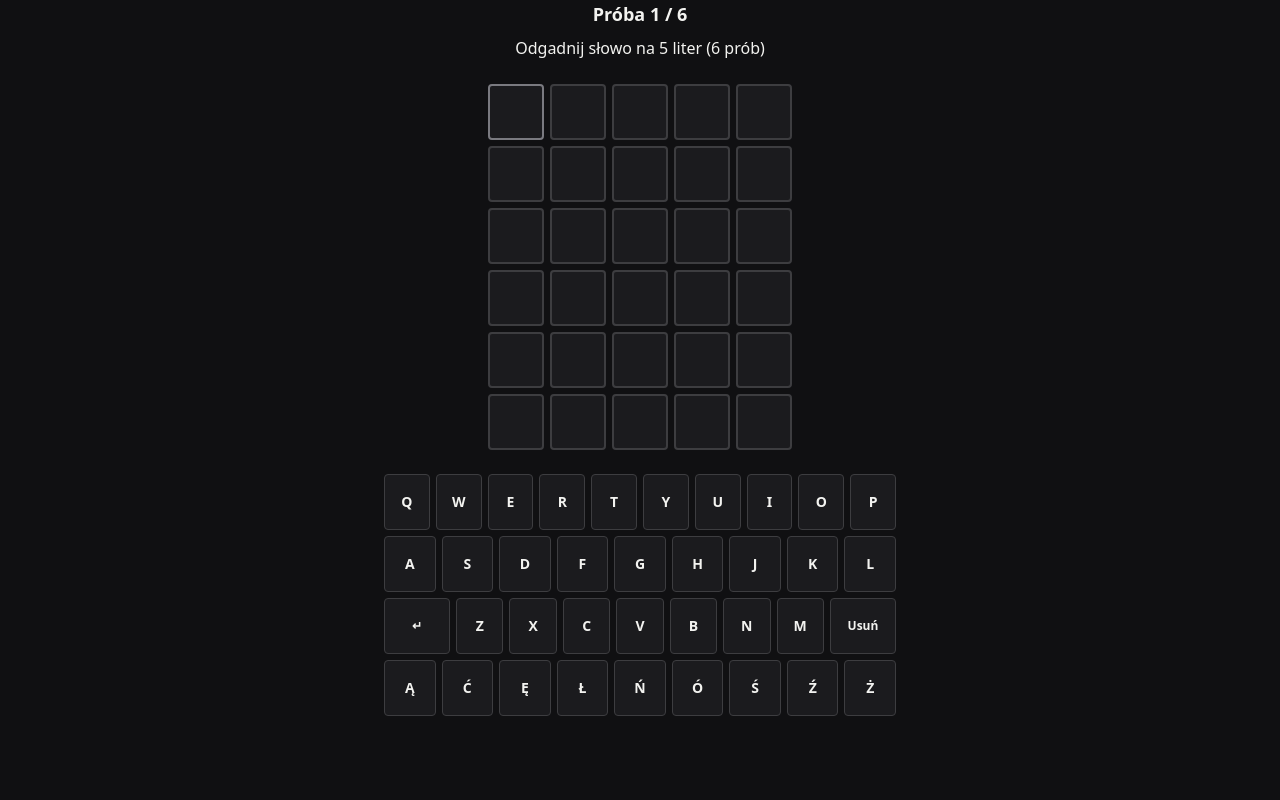
InfiniteGamePlay › shows result modal and disables keyboard on finish
Click the button "M". click: (800, 626)
box: 776,598 -> 824,654
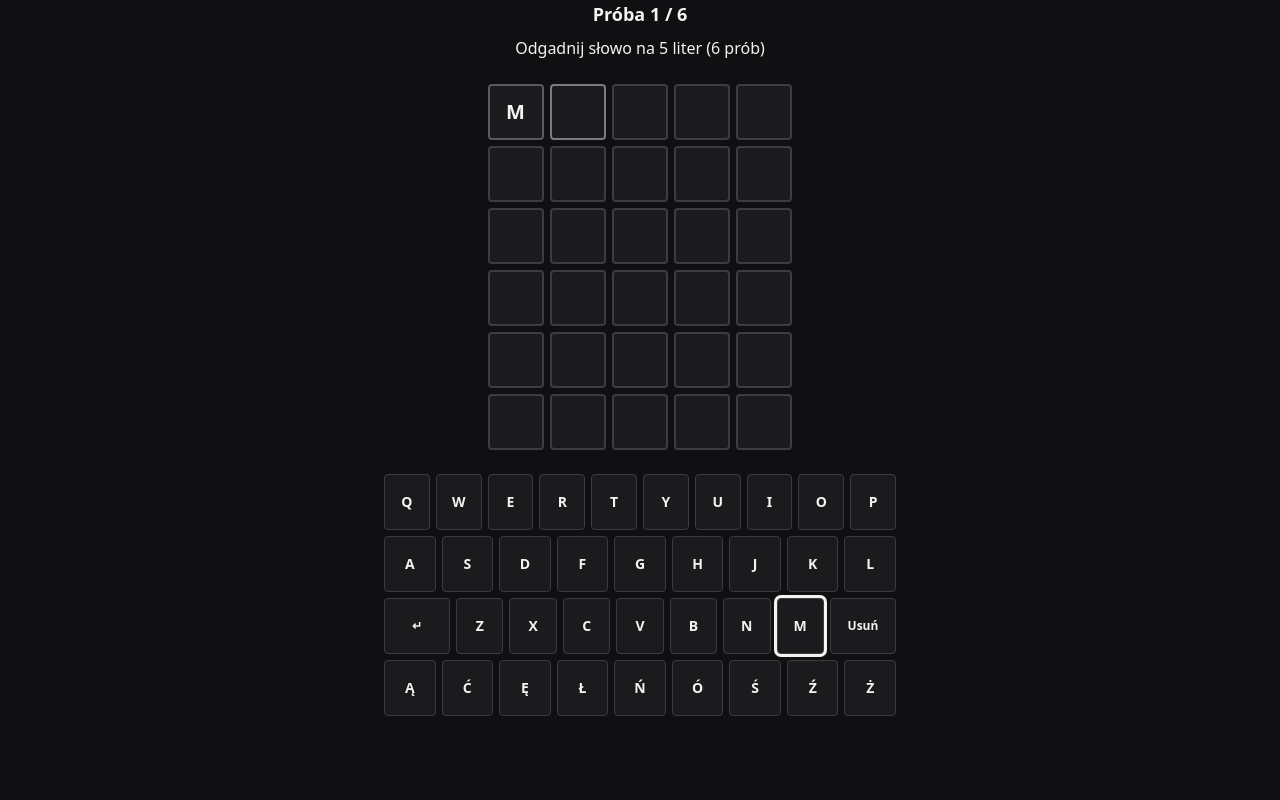
Click the button named "Wpisz literę A". click: (410, 564)
box: 384,536 -> 436,592
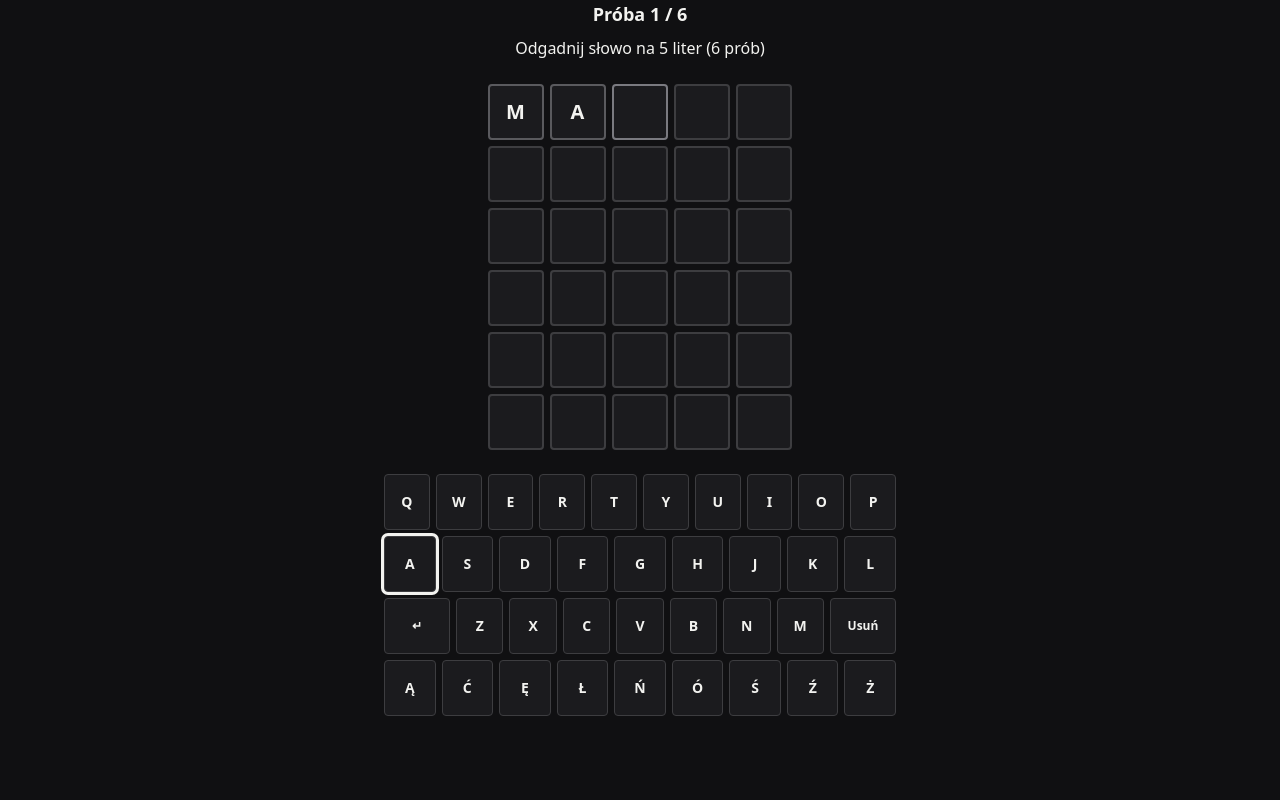
Click the button "K". click: (813, 564)
box: 787,536 -> 838,592
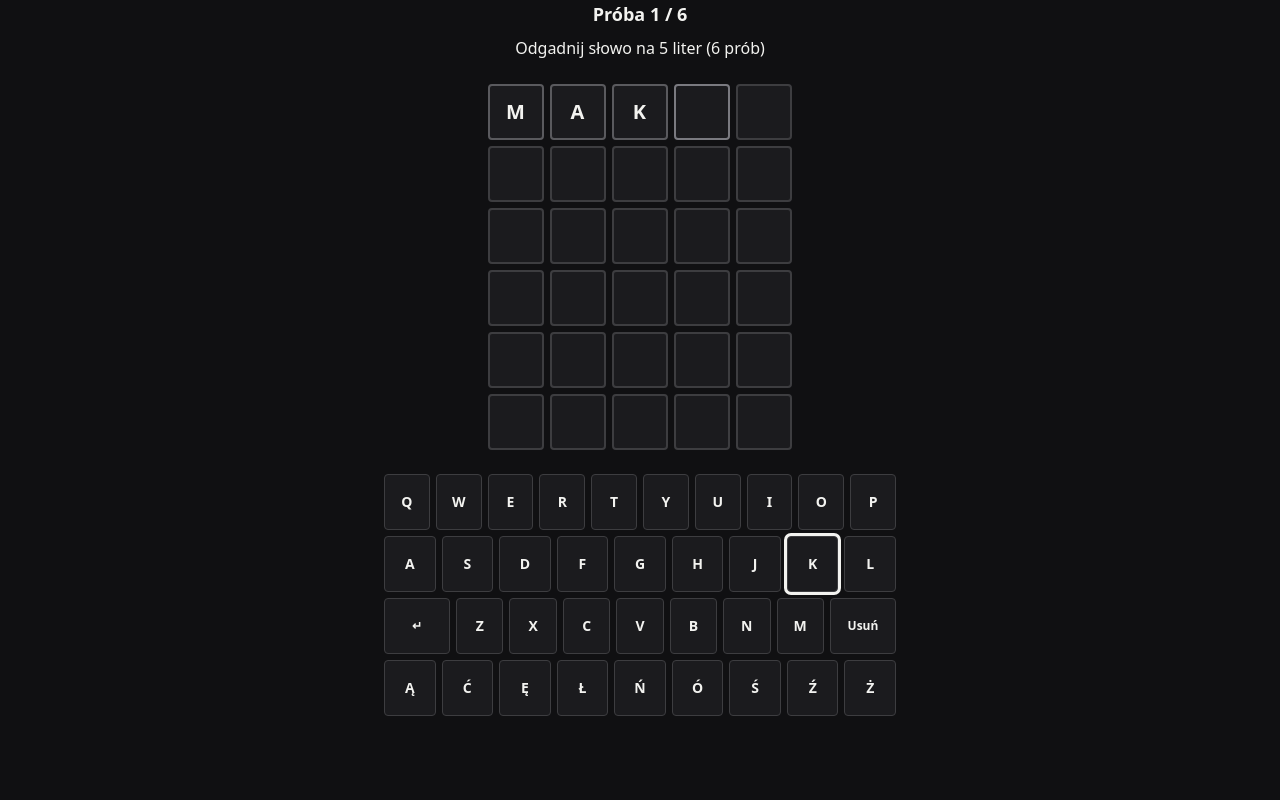
Click the button named "Wpisz literę S". click: (467, 564)
box: 442,536 -> 493,592
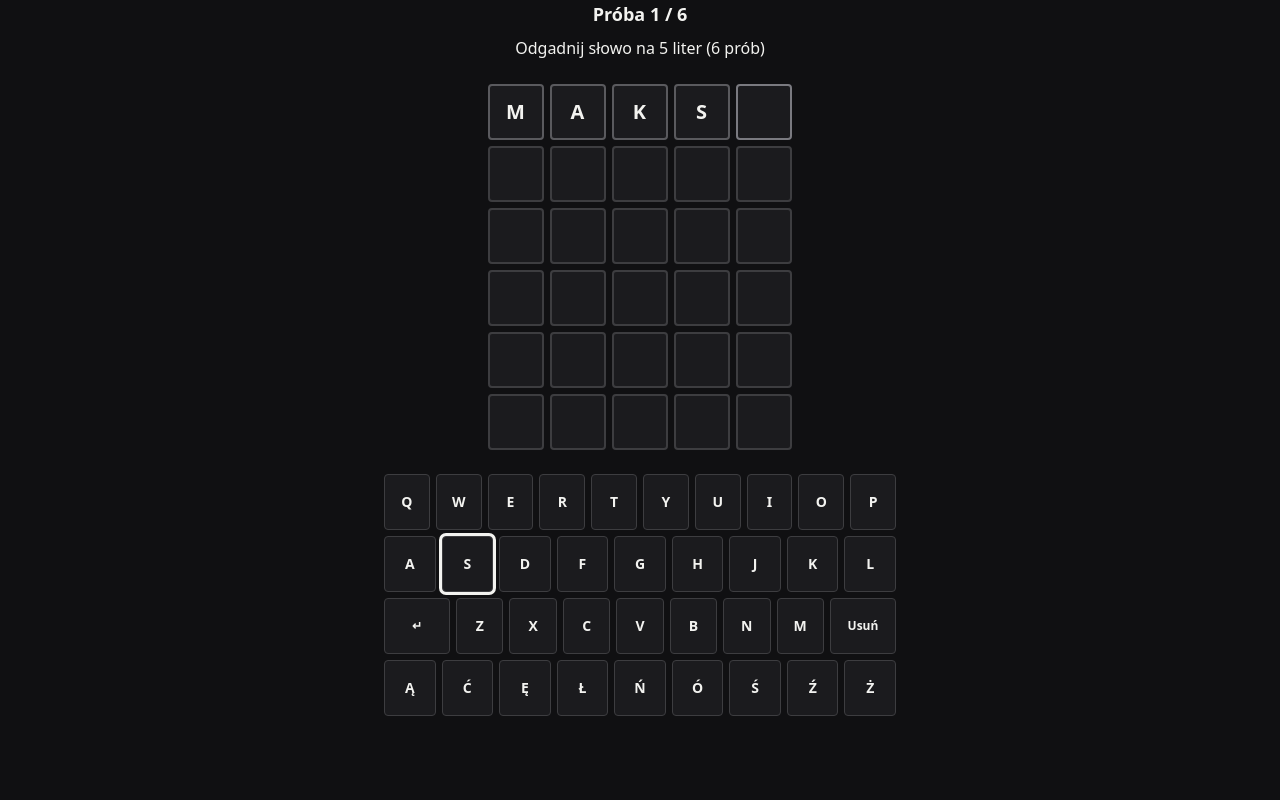
Click the button named "Wpisz literę A". click: (410, 564)
box: 384,536 -> 436,592
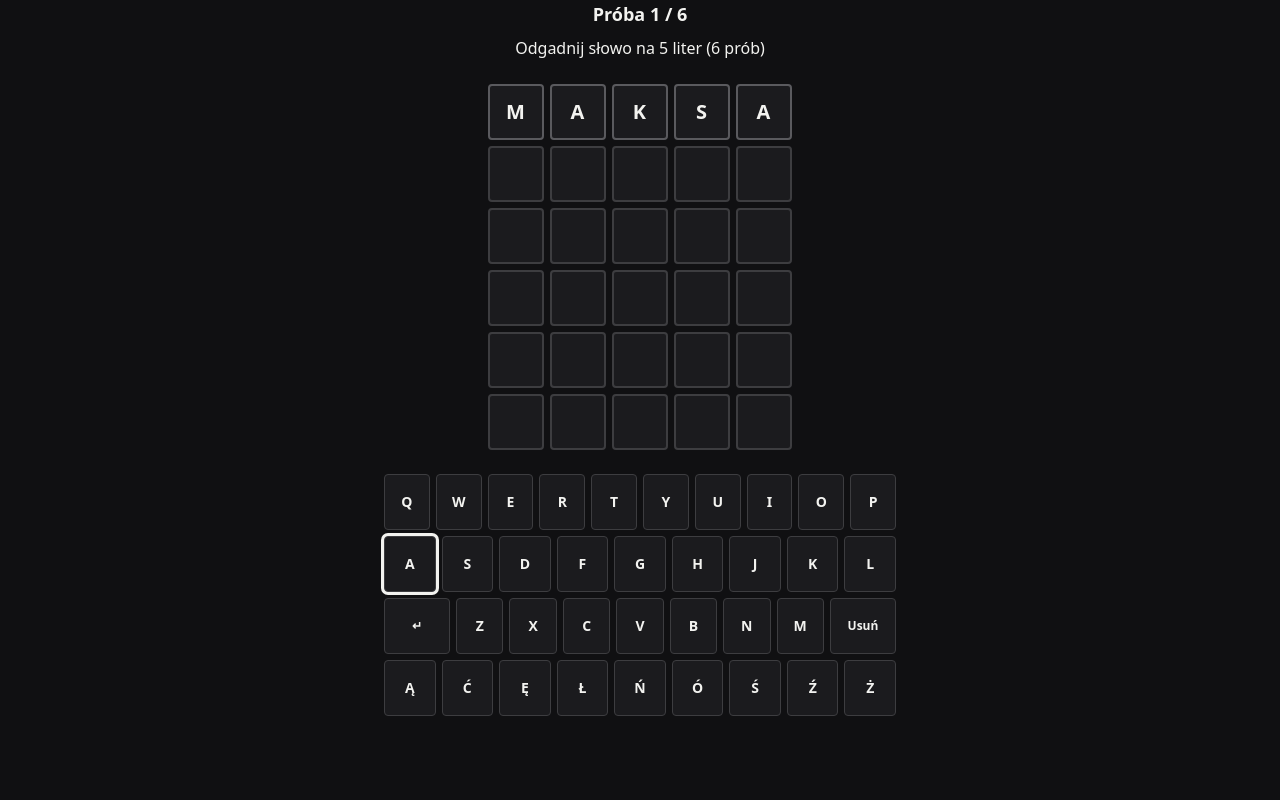
Click the button named "Zatwierdź". click: (417, 626)
box: 384,598 -> 450,654
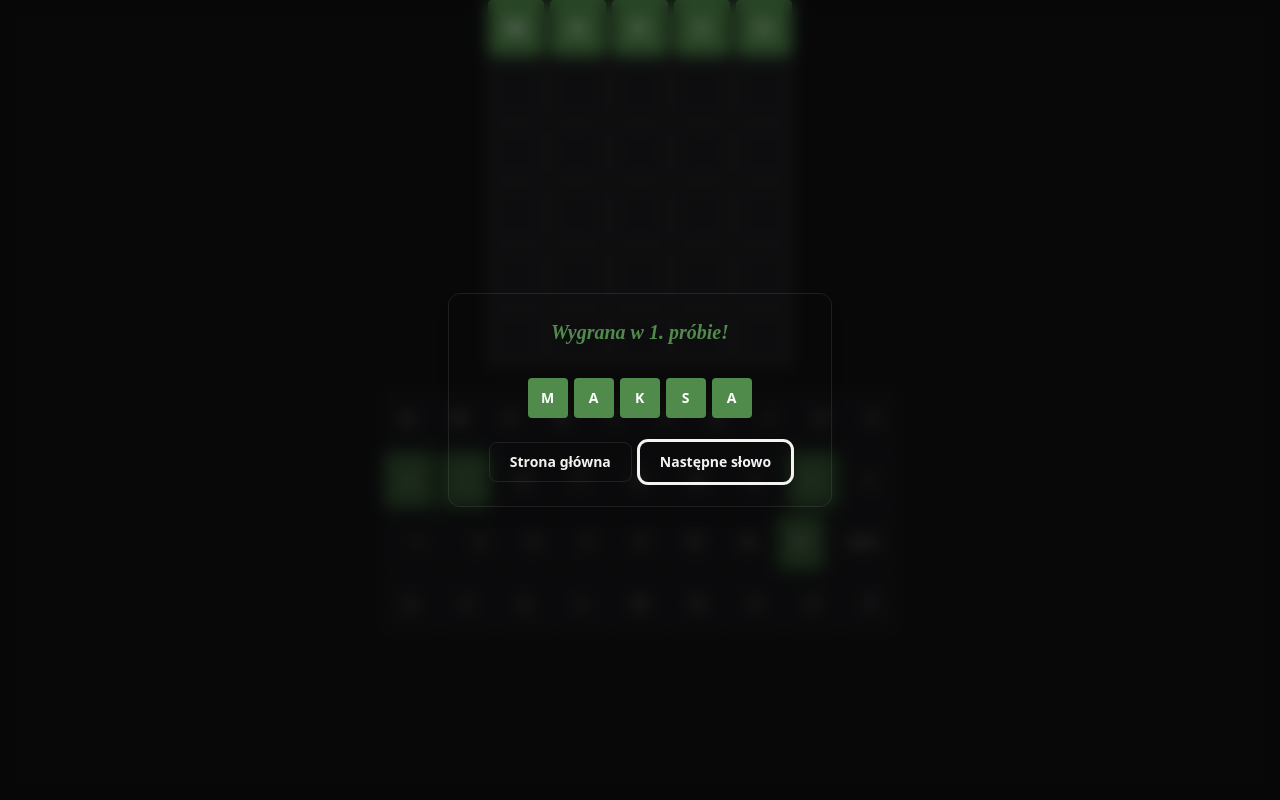
Result: the dialog is shown at 448,293 -> 832,507
Result: the heading "Wygrana w 1. próbie!" is shown at 551,321 -> 729,343
Result: the button named "Wpisz literę A" is disabled at 384,452 -> 434,508
